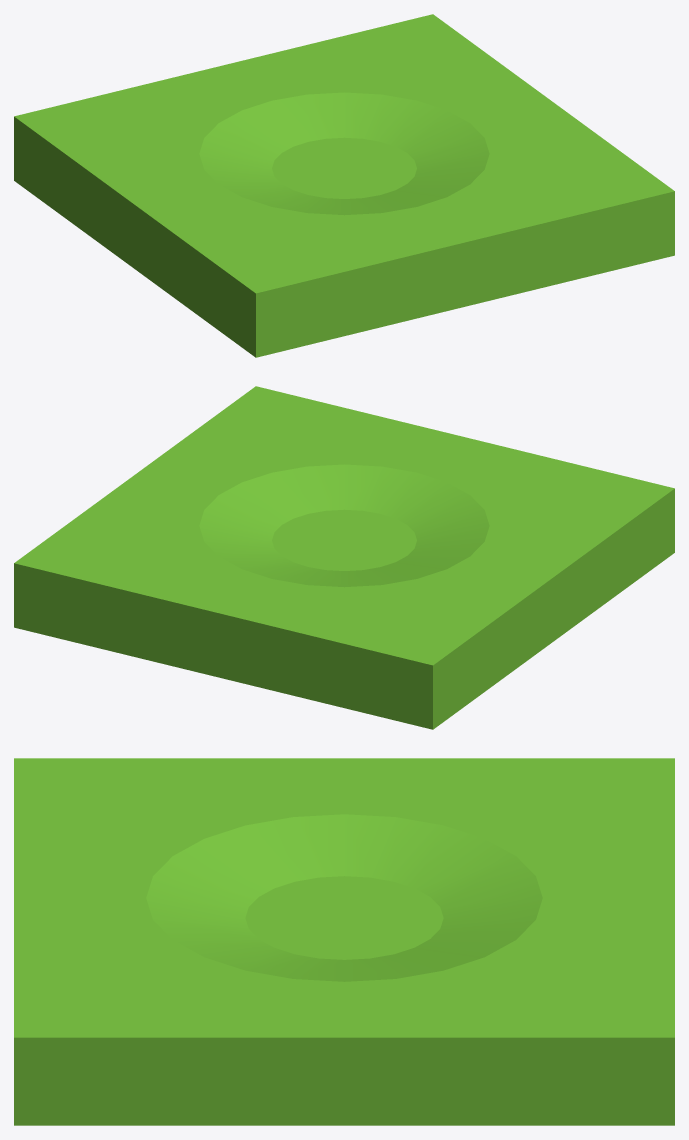
Rendered from Bump_Down.FBX.
3 views of the same model, one above another, from view 1: azimuth 30°, elevation 25°; view 2: azimuth 150°, elevation 25°; view 3: azimuth 270°, elevation 25° (orthographic). The views are drawn at different scales.
Visible parts, largest first — view 1: Bump_down_01; view 2: Bump_down_01; view 3: Bump_down_01.
Part boxes in pixels (bbox=[...]): Bump_down_01: bbox=[14, 14, 674, 357]; Bump_down_01: bbox=[14, 386, 674, 729]; Bump_down_01: bbox=[14, 758, 674, 1125].
Size of the model in its own units: 0.9999 by 0.9999 by 0.1467.
